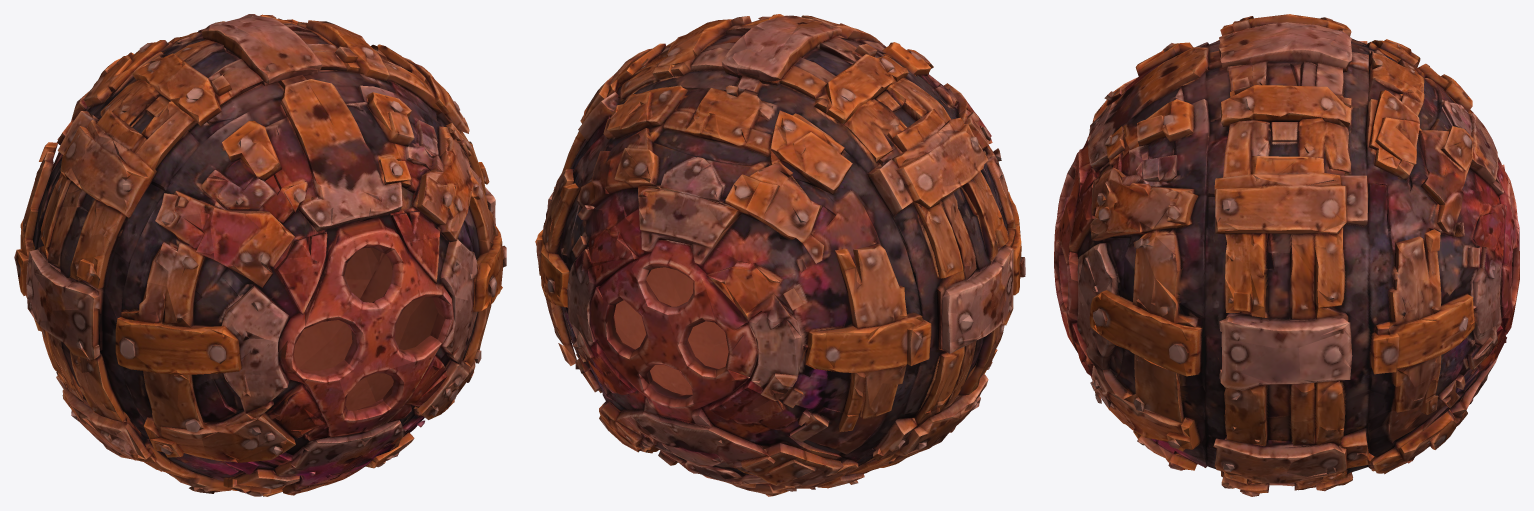
File: bowling-ball.glb
3 renders of one model, left to right at view 1: azimuth 30°, elevation 25°; view 2: azimuth 150°, elevation 25°; view 3: azimuth 270°, elevation 25°, orthographic.
Parts seen in each view (by area): view 1: Mesh_0; view 2: Mesh_0; view 3: Mesh_0.
Part boxes in pixels (x1,y1,x2,y2): Mesh_0: (14, 14, 506, 496); Mesh_0: (535, 14, 1025, 496); Mesh_0: (1054, 14, 1519, 496).
Bounding box in the file's own units: 1.9 × 1.9 × 1.81.
1 material, 1 textured.
